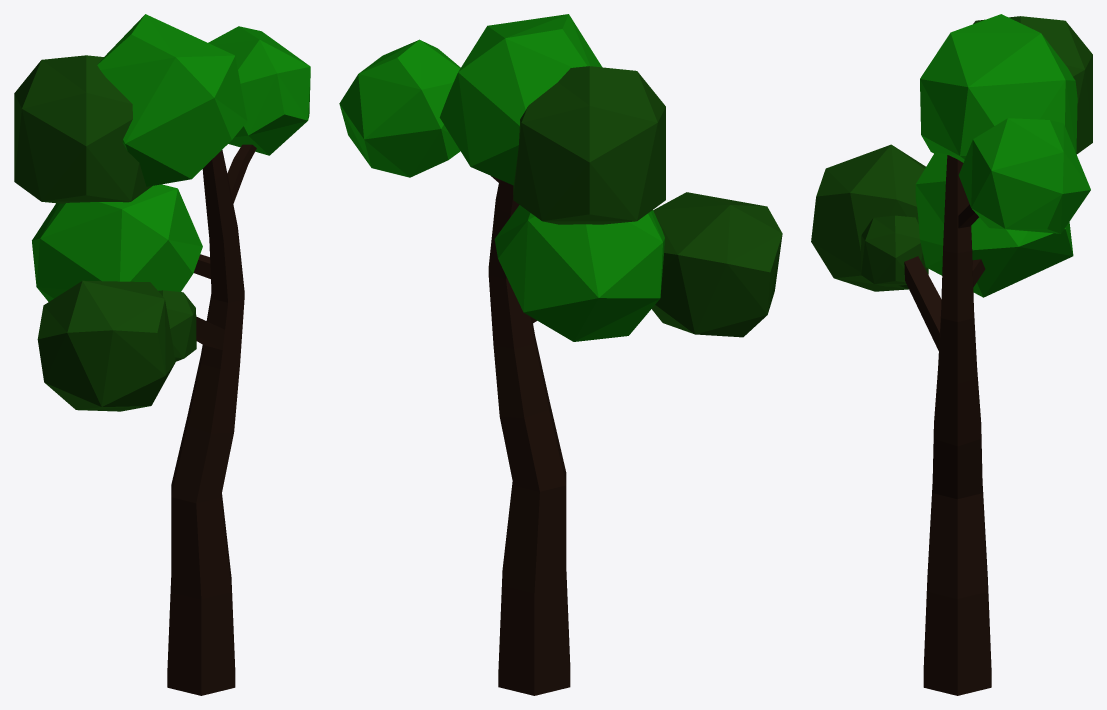
The model's file is SimpleTree002.FBX.
3 renders of one model, left to right at view 1: azimuth 30°, elevation 25°; view 2: azimuth 150°, elevation 25°; view 3: azimuth 270°, elevation 25°, orthographic. The views are drawn at different scales.
Parts seen in each view (by area): view 1: Cylinder001; view 2: Cylinder001; view 3: Cylinder001.
Boxes of the visible parts, box(x1,y1,x2,y2) form: Cylinder001: box(14, 14, 310, 695); Cylinder001: box(339, 14, 782, 695); Cylinder001: box(811, 14, 1092, 695).
Bounding box in the file's own units: 108 × 203 × 80.76.
